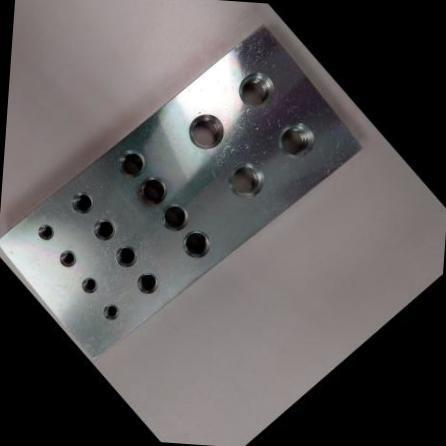hole: (218, 150, 277, 210), (178, 102, 236, 160), (228, 60, 286, 118), (269, 111, 326, 168), (174, 220, 220, 266), (152, 193, 198, 239), (130, 168, 176, 214), (111, 140, 154, 185), (108, 238, 146, 274), (65, 184, 101, 220), (130, 265, 166, 300), (87, 211, 123, 246), (55, 244, 82, 272), (98, 298, 125, 324), (78, 271, 104, 297), (34, 218, 60, 244)
